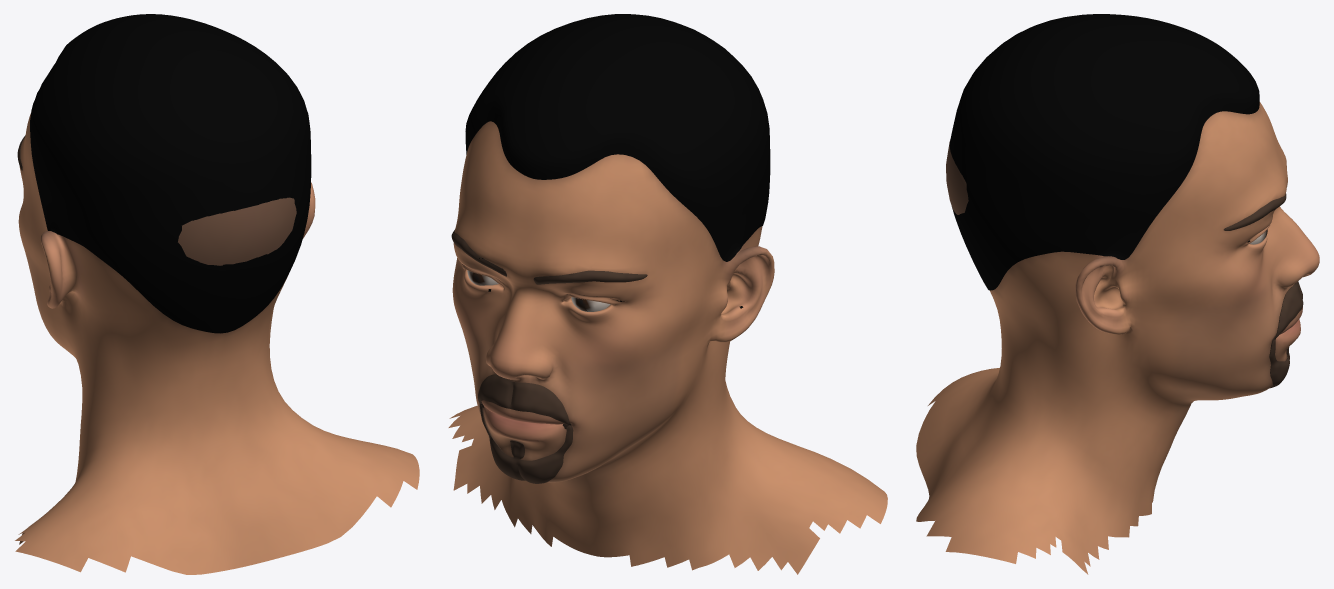
File: tony_head.glb
3 renders of one model, left to right at view 1: azimuth 30°, elevation 25°; view 2: azimuth 150°, elevation 25°; view 3: azimuth 270°, elevation 25°, orthographic. The views are drawn at different scales.
Visible parts, largest first — view 1: tony_head; view 2: tony_head; view 3: tony_head.
Boxes of the visible parts, box(x1,y1,x2,y2) form: tony_head: box(15, 14, 419, 574); tony_head: box(448, 14, 887, 574); tony_head: box(916, 14, 1319, 574).
Size of the model in its own units: 0.2999 by 0.3363 by 0.2619.
Materials: 6 (6 with a texture image).
